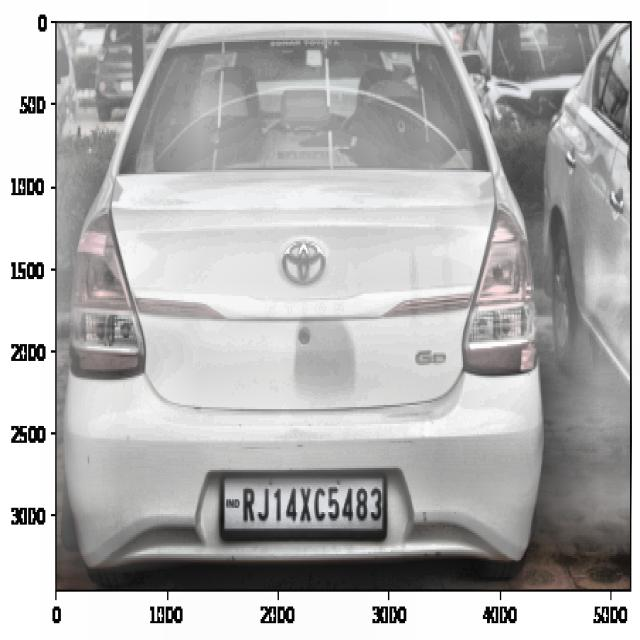license_plate: (235, 474, 387, 534)
